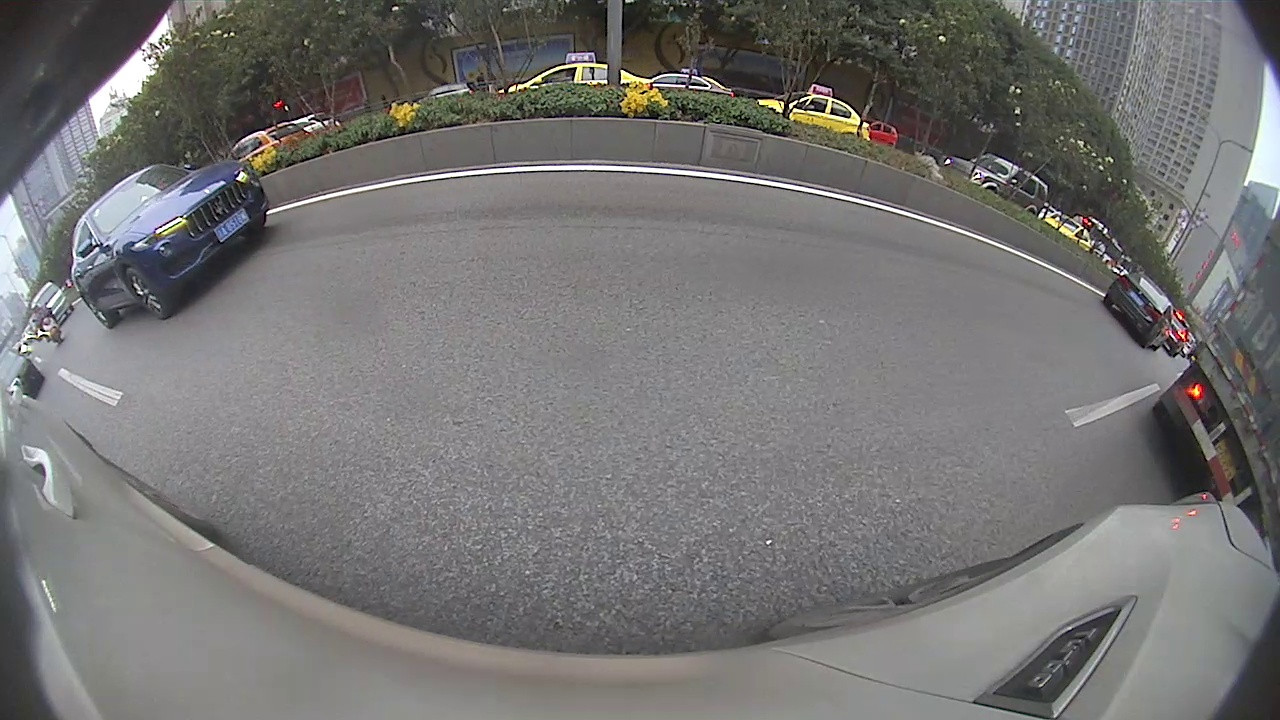car: (215, 162, 464, 305), (148, 211, 237, 320), (660, 148, 732, 198), (522, 160, 580, 195)
front: (440, 200, 460, 236)
person: (789, 151, 802, 183), (755, 152, 767, 180)
rear: (318, 231, 360, 290)
